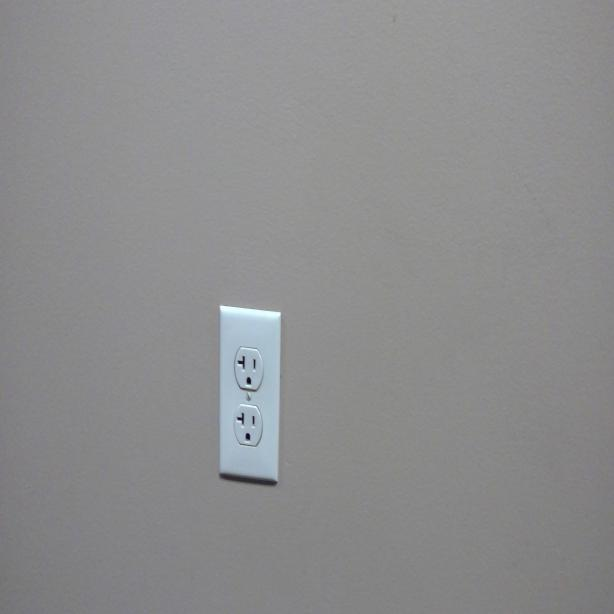typeb: (233, 343, 262, 390), (234, 406, 262, 444)
